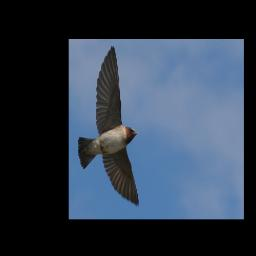Swallow: (77, 45, 139, 206)
